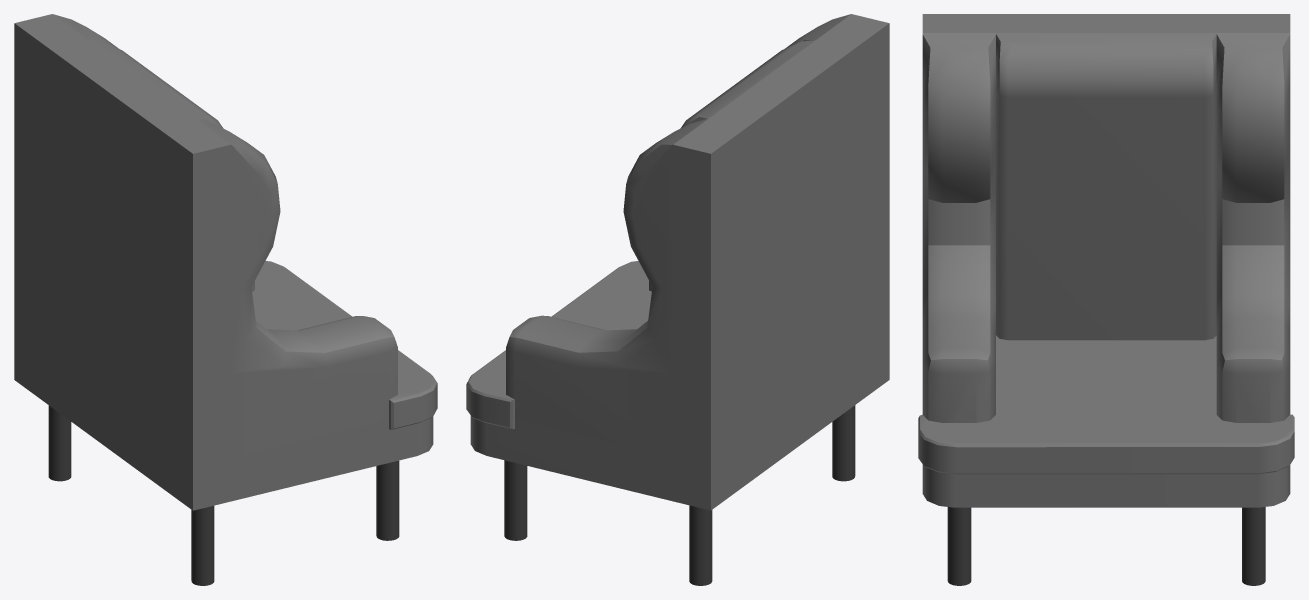
The model's file is Fancy_Chair.fbx.
3 views of the same model, side by side, from view 1: azimuth 30°, elevation 25°; view 2: azimuth 150°, elevation 25°; view 3: azimuth 270°, elevation 25° (orthographic). The views are drawn at different scales.
Parts seen in each view (by area): view 1: Fancy_Chair; view 2: Fancy_Chair; view 3: Fancy_Chair.
Boxes of the visible parts, box(x1,y1,x2,y2) form: Fancy_Chair: box(14, 14, 437, 585); Fancy_Chair: box(466, 14, 889, 585); Fancy_Chair: box(918, 14, 1294, 585).
Size of the model in its own units: 2.65 by 4.42 by 3.28.
